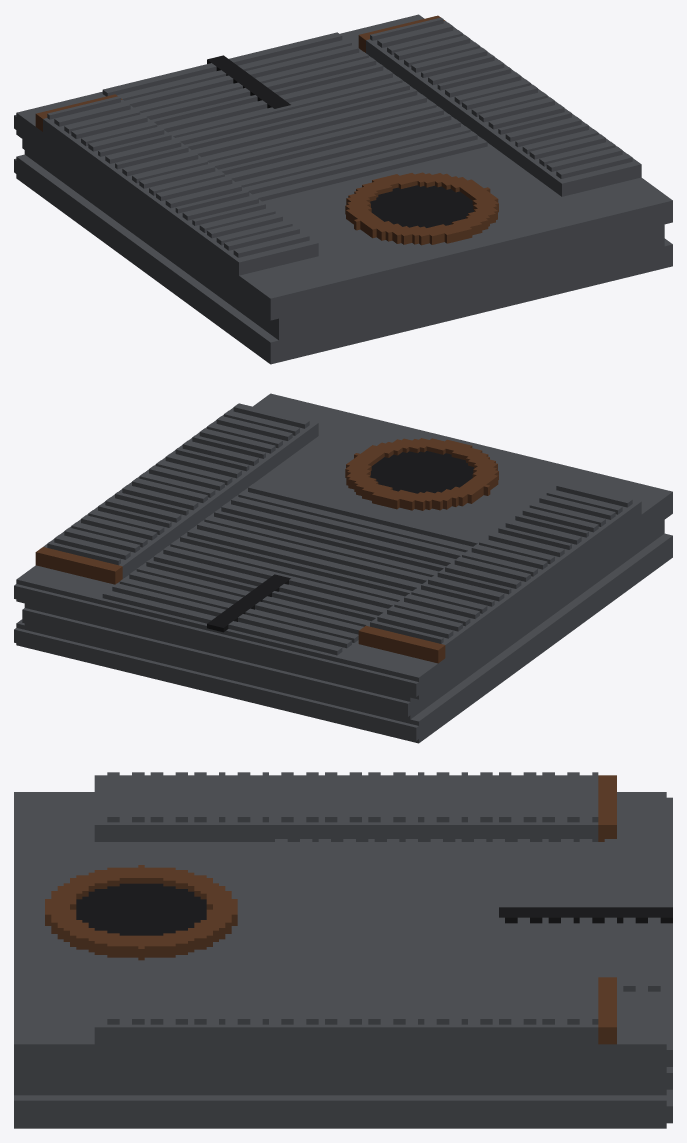
The model's file is mc_chainmail_hauberk.glb.
The picture shows the model from 3 angles, top to bottom: view 1: azimuth 30°, elevation 25°; view 2: azimuth 150°, elevation 25°; view 3: azimuth 270°, elevation 25°; orthographic projection. The views are drawn at different scales.
Visible parts, largest first — view 1: mc_chainmail_hauberk:compound; view 2: mc_chainmail_hauberk:compound; view 3: mc_chainmail_hauberk:compound.
Boxes of the visible parts, x1=… form: mc_chainmail_hauberk:compound: x1=14, y1=14, x2=672, y2=364; mc_chainmail_hauberk:compound: x1=14, y1=393, x2=672, y2=743; mc_chainmail_hauberk:compound: x1=14, y1=772, x2=672, y2=1128.
Size of the model in its own units: 0.384 by 0.076 by 0.424.
